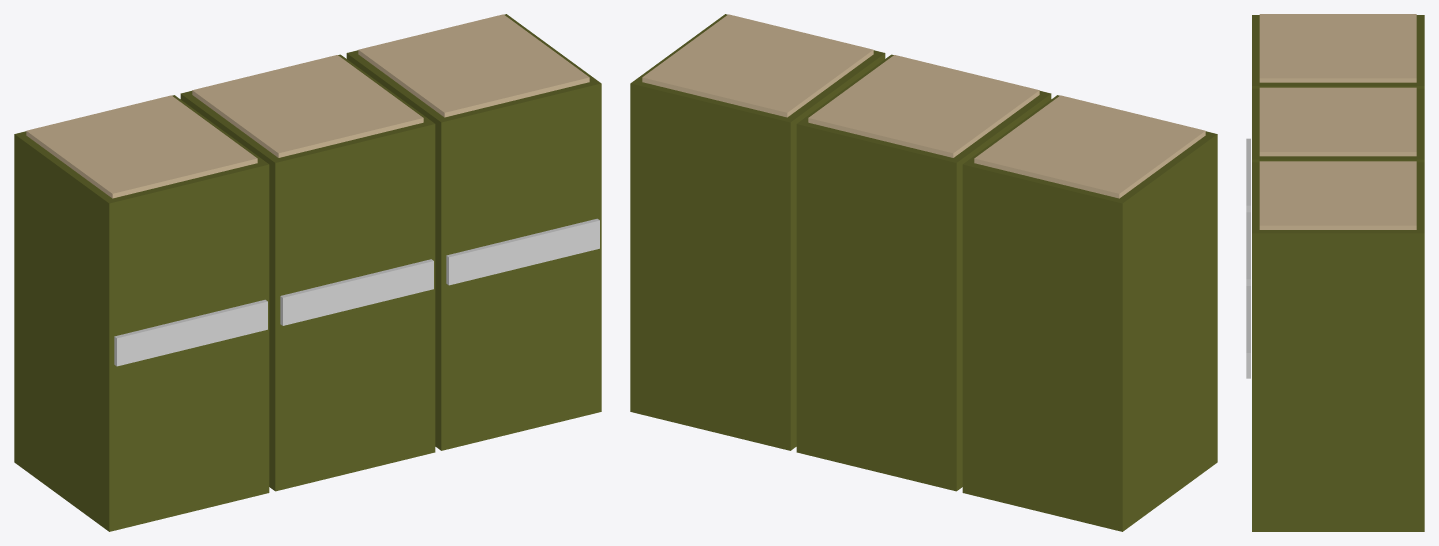
File: SM_HescoCorto3_v1_Geotextil_e0_Sano_LOD1.fbx
The picture shows the model from 3 angles, left to right: view 1: azimuth 30°, elevation 25°; view 2: azimuth 150°, elevation 25°; view 3: azimuth 270°, elevation 25°; orthographic projection. The views are drawn at different scales.
Parts seen in each view (by area): view 1: SM_hesco_piezas_v84_LOD1; view 2: SM_hesco_piezas_v84_LOD1; view 3: SM_hesco_piezas_v84_LOD1.
Boxes of the visible parts, box(x1,y1,x2,y2) form: SM_hesco_piezas_v84_LOD1: box(14, 14, 601, 531); SM_hesco_piezas_v84_LOD1: box(630, 14, 1217, 531); SM_hesco_piezas_v84_LOD1: box(1246, 14, 1424, 531).
Size of the model in its own units: 3.29 by 2.13 by 1.13.
